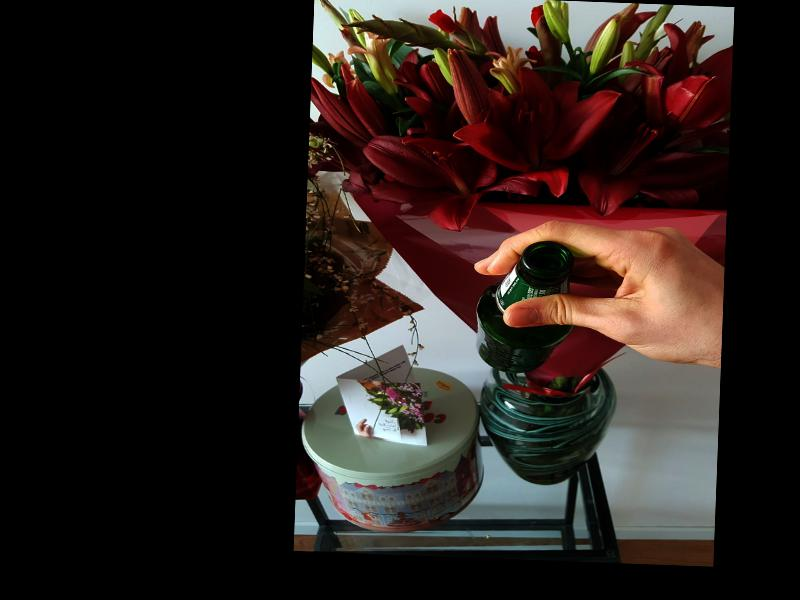Beer: (474, 238, 577, 374)
